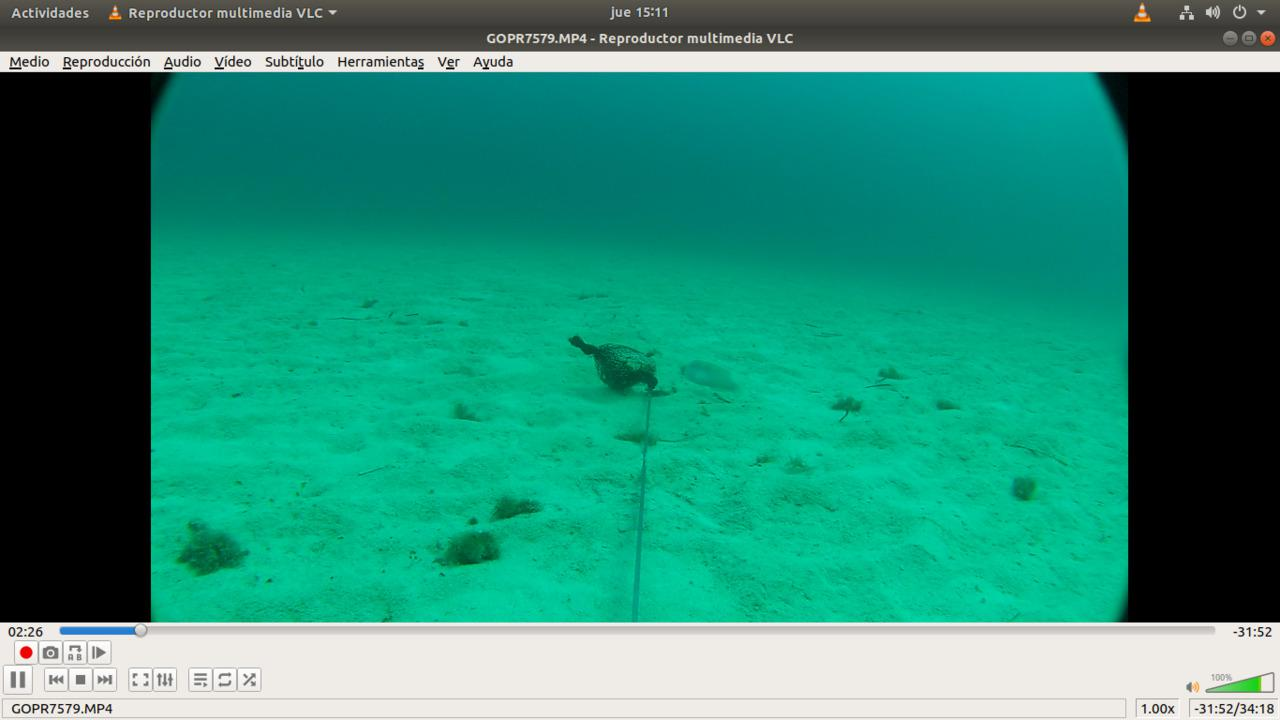raor: (674, 348, 743, 399)
